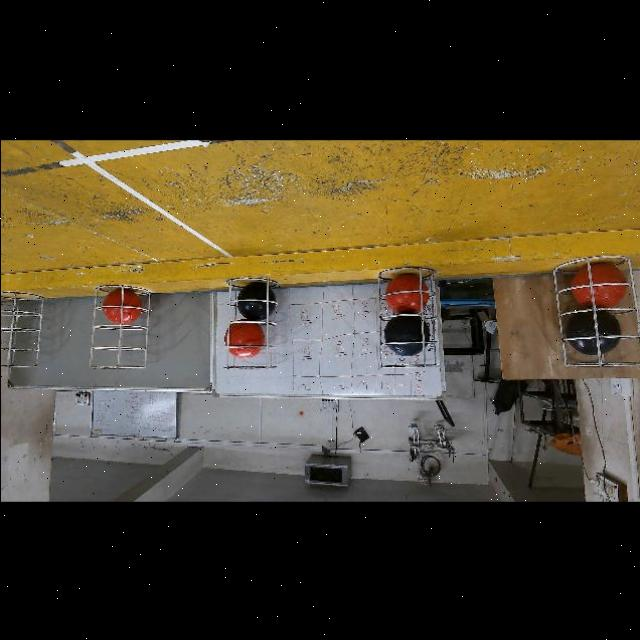P: (564, 309, 620, 353), (382, 314, 429, 356), (235, 279, 275, 320)
R: (569, 260, 626, 307), (384, 271, 423, 313), (224, 321, 264, 357), (103, 287, 143, 322)
S: (556, 254, 640, 366), (222, 268, 282, 376), (87, 283, 155, 369), (377, 268, 433, 368), (0, 287, 48, 367)
